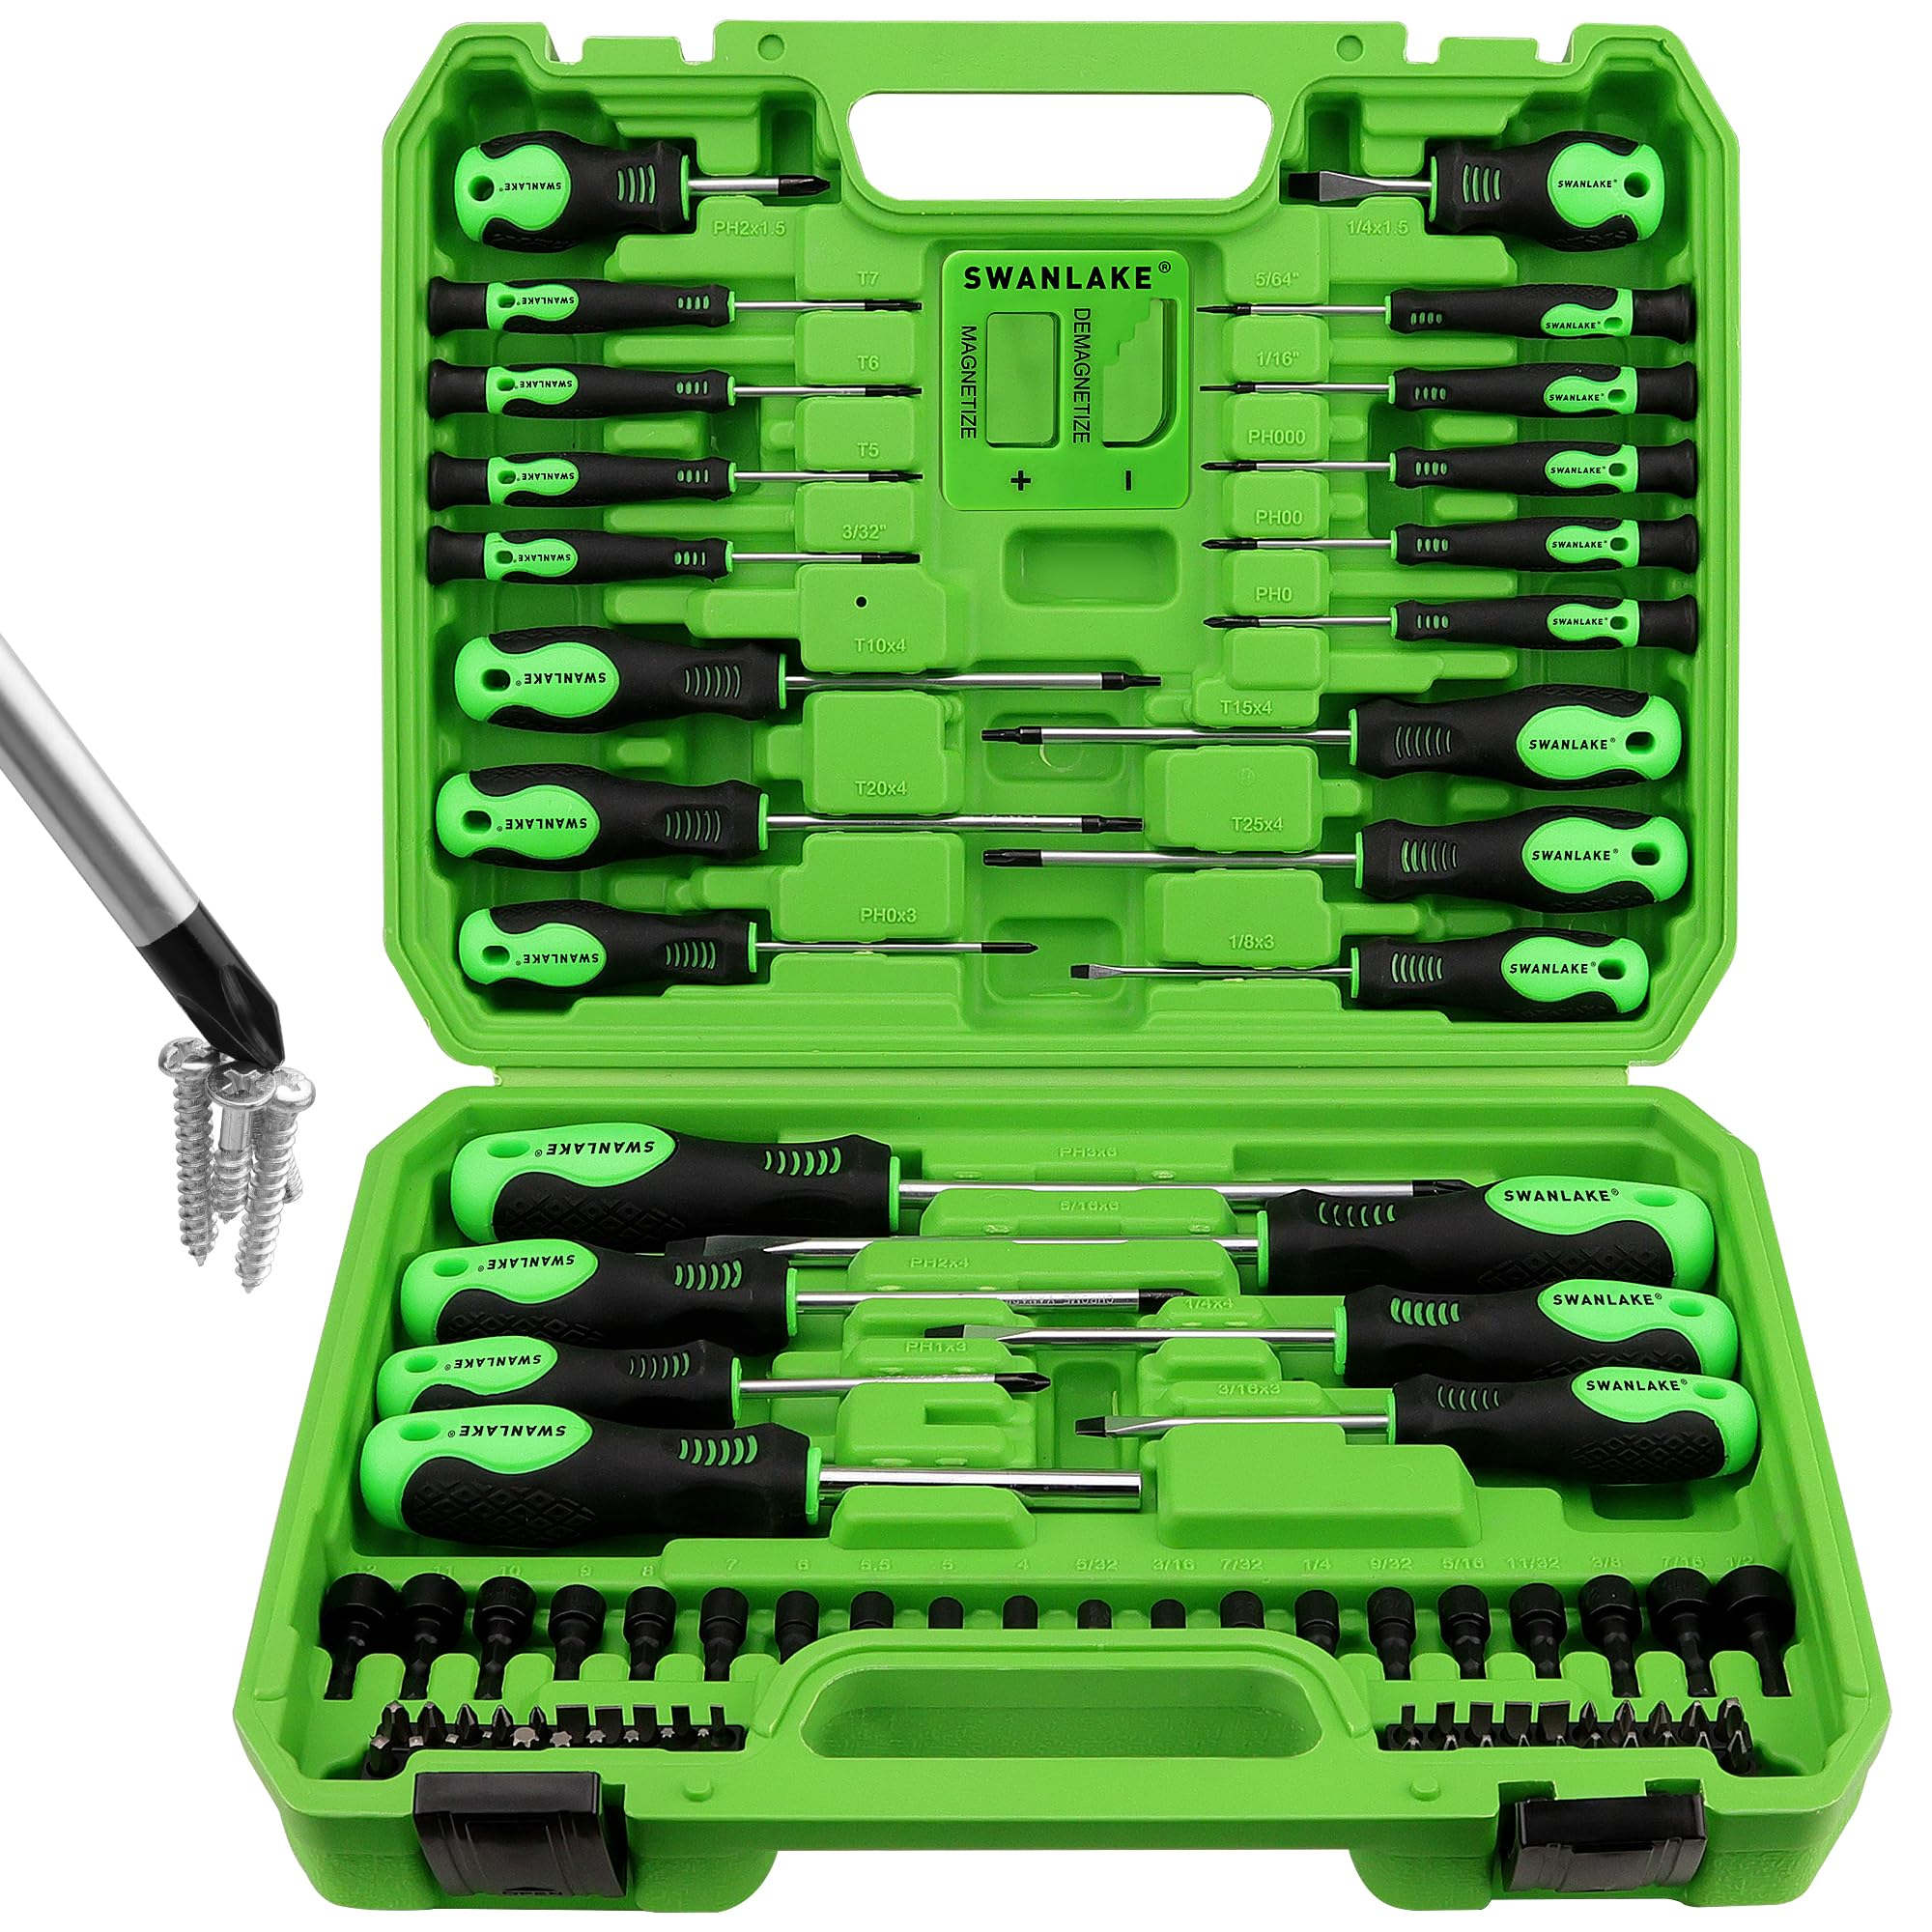screwdriver: (759, 1171, 1771, 1299), (448, 1115, 1430, 1237), (343, 1403, 1189, 1543), (380, 1238, 1235, 1348), (428, 763, 1154, 890), (915, 1276, 1766, 1380), (1065, 1375, 1778, 1497), (421, 621, 1150, 731), (449, 890, 1040, 1024), (968, 686, 1709, 793), (975, 803, 1706, 909), (359, 1327, 1063, 1433), (1062, 922, 1660, 1044), (1277, 117, 1727, 257), (437, 113, 842, 249), (1185, 272, 1727, 350), (1192, 591, 1730, 667), (1198, 359, 1720, 430), (418, 527, 932, 596), (1200, 511, 1725, 575), (416, 446, 929, 510), (414, 272, 936, 334), (1187, 433, 1720, 492), (418, 361, 922, 421)
